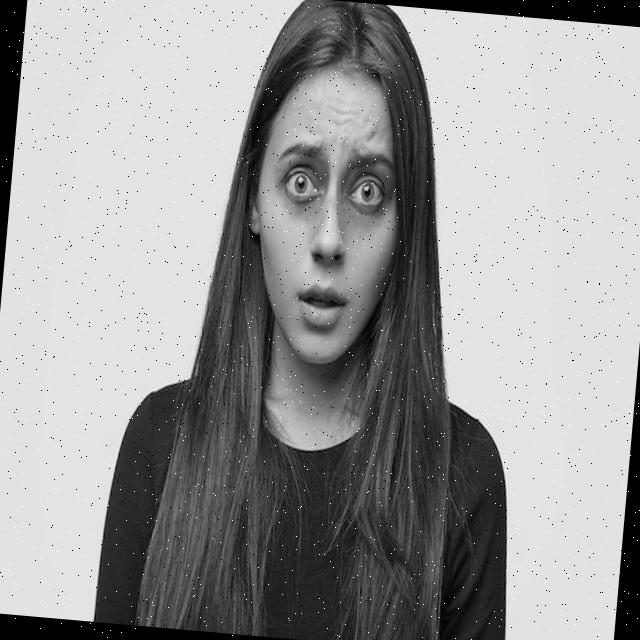Fear: (243, 62, 410, 368)
